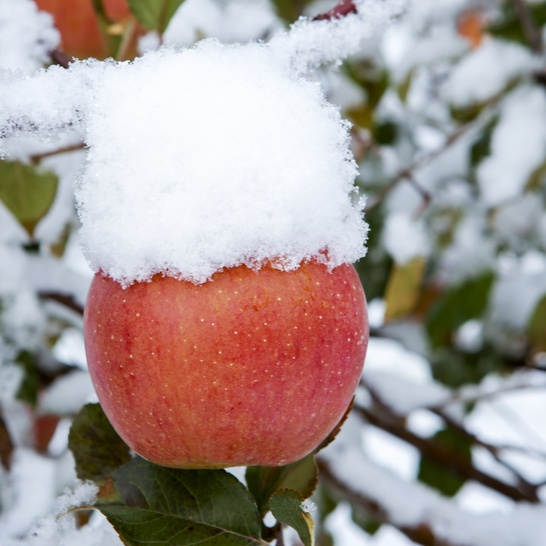apple: (87, 225, 367, 467), (36, 1, 159, 71)
